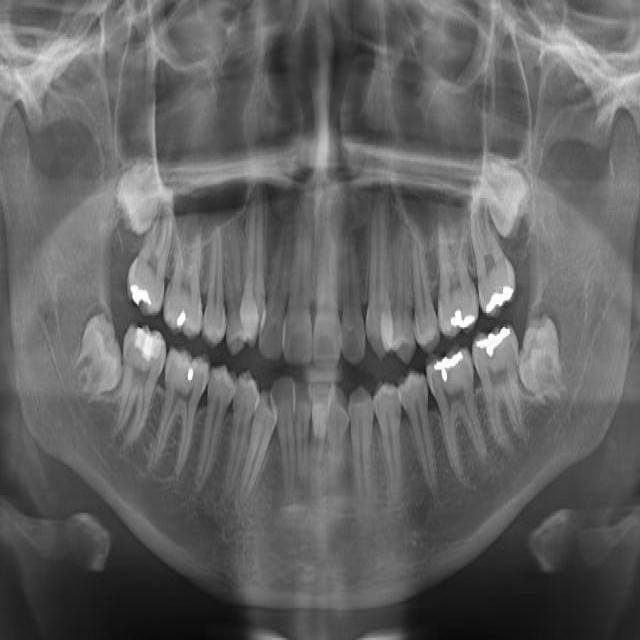dolgu: (123, 255, 162, 321), (127, 318, 164, 382), (474, 320, 517, 367), (443, 283, 478, 338), (431, 342, 469, 384), (486, 268, 516, 320), (169, 290, 197, 332), (175, 351, 205, 390)
